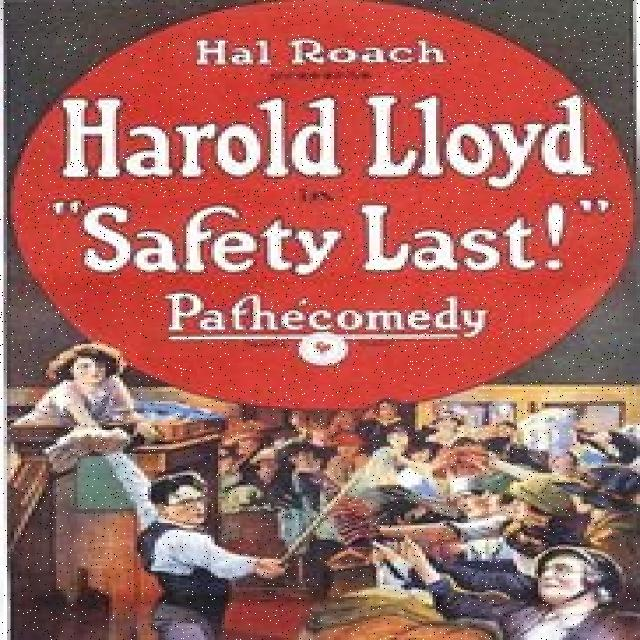movie-judul: (43, 97, 633, 346)
picture: (27, 343, 637, 640)
